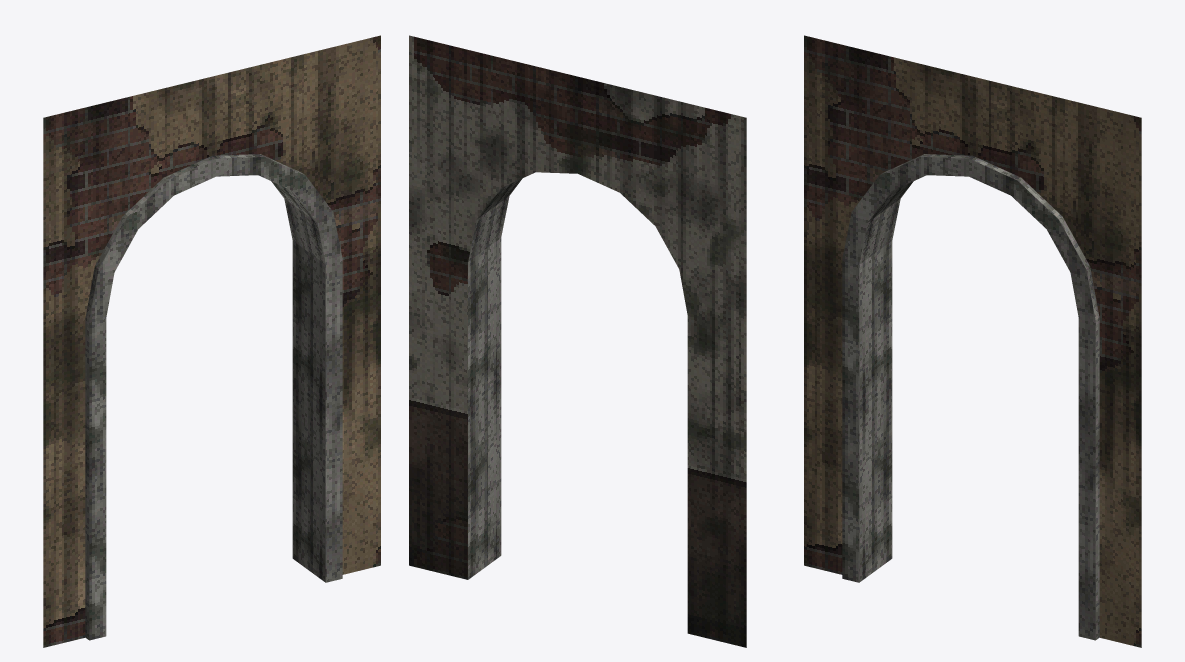
File: ext_portal.gltf
3 views of the same model, side by side, from view 1: azimuth 30°, elevation 25°; view 2: azimuth 150°, elevation 25°; view 3: azimuth 330°, elevation 25° (orthographic).
Parts seen in each view (by area): view 1: ext_portal-col; view 2: ext_portal-col; view 3: ext_portal-col.
Part boxes in pixels (x1,y1,x2,y2): ext_portal-col: [43, 35, 380, 647]; ext_portal-col: [409, 35, 746, 647]; ext_portal-col: [804, 35, 1141, 647].
Bounding box in the file's own units: 2 × 3 × 0.34.
Materials: 3 (3 with a texture image).
